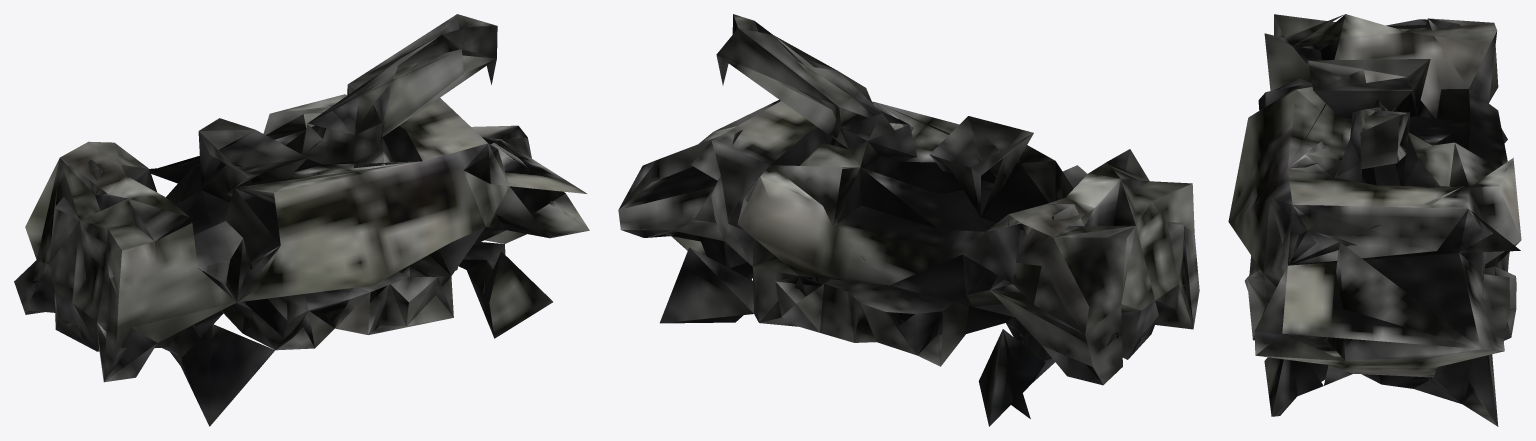
File: factory_1553196644_lod0m.glb
The picture shows the model from 3 angles, left to right: view 1: azimuth 30°, elevation 25°; view 2: azimuth 150°, elevation 25°; view 3: azimuth 270°, elevation 25°; orthographic projection. The views are drawn at different scales.
Bounding box in the file's own units: 15.98 × 9.25 × 7.51.
1 material, 1 textured.
